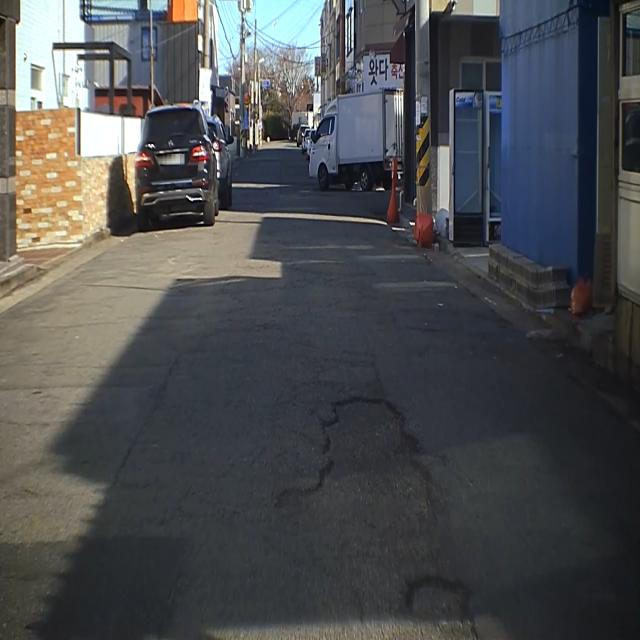Pothole: (271, 388, 443, 530), (399, 566, 475, 635)
